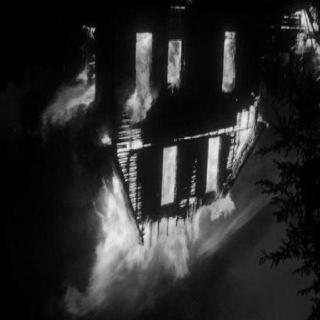Fire: (39, 24, 272, 316), (281, 6, 319, 82), (166, 41, 183, 94), (222, 30, 236, 94)
